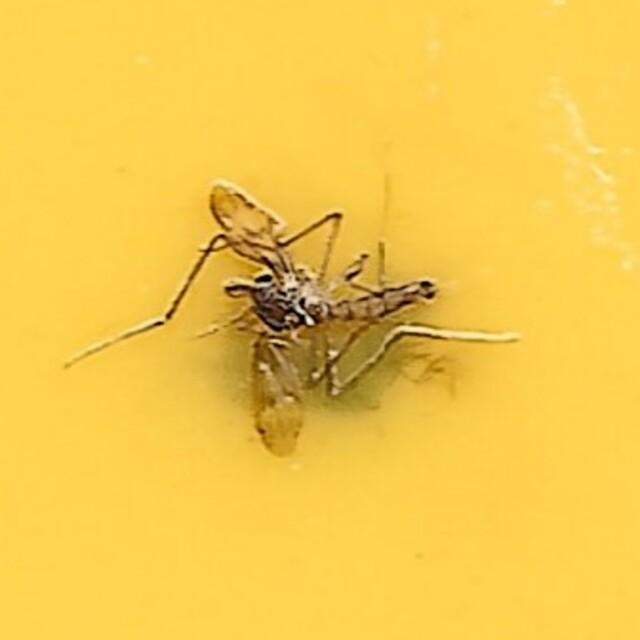Nematocera: (190, 175, 450, 465)
